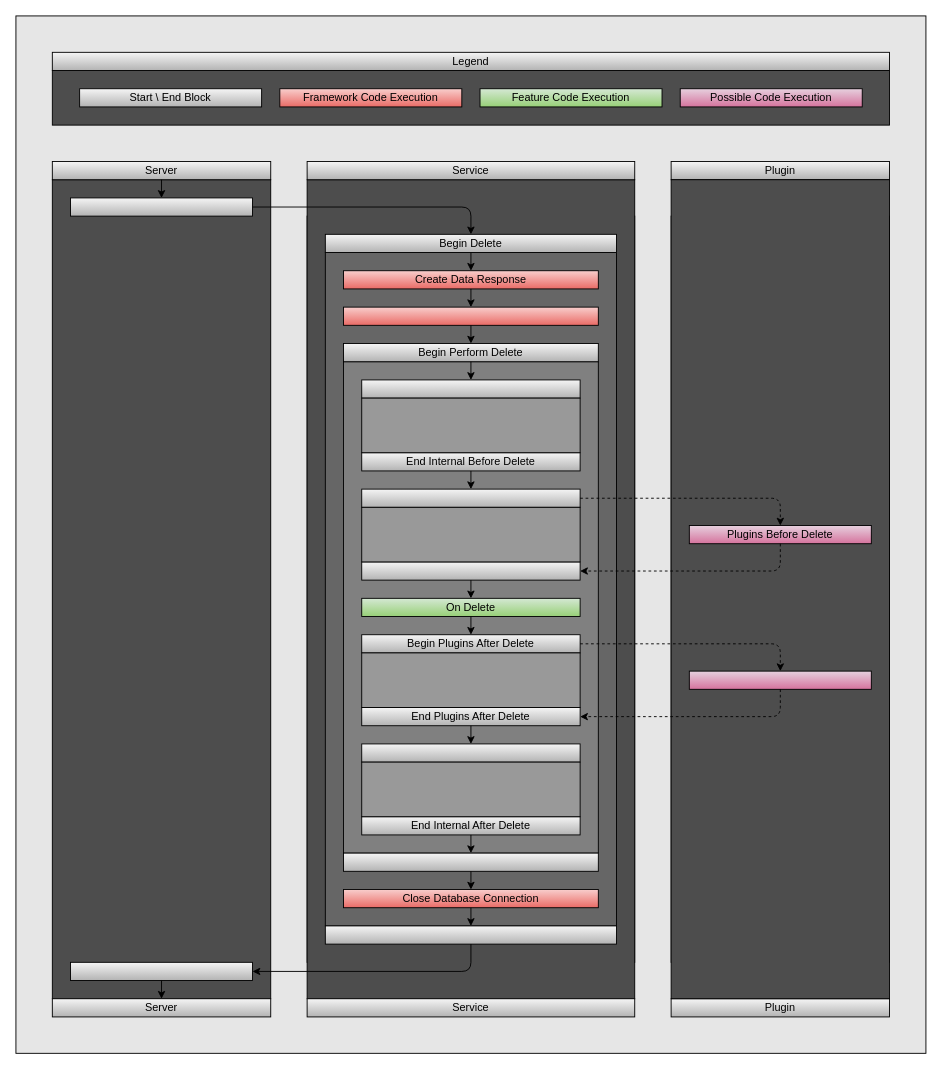
Image size: 942x1069. Some labels were removed from this diagram. The shapes that lost their labels are listed below. From the top down, each one's centre as x and y in pixels, then its label:
(x=161, y=206): Begin Invoke Service Delete
(x=470, y=315): Open Database Connection
(x=470, y=388): Begin Internal Before Delete
(x=470, y=497): Begin Plugins Before Delete
(x=470, y=570): End Plugins Before Delete
(x=779, y=679): Plugins After Delete
(x=470, y=752): Begin Internal After Delete
(x=470, y=861): End Perform Delete
(x=470, y=934): End Delete
(x=161, y=971): End Invoke Service Delete
